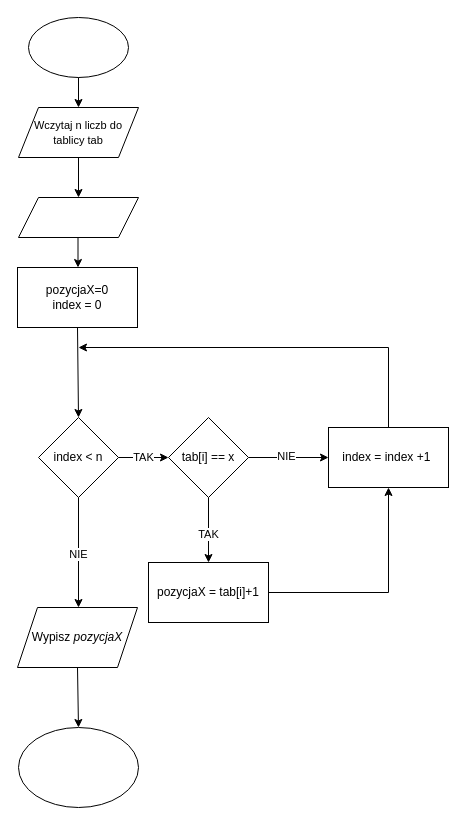
Image size: 466x825. Some labels were removed from this diagram. The centre of each missing label's shape, as x and y in pixels:
"KONIEC" belongs at point (78, 767).
"Podaj x" belongs at point (78, 217).
"START" belongs at point (78, 47).
